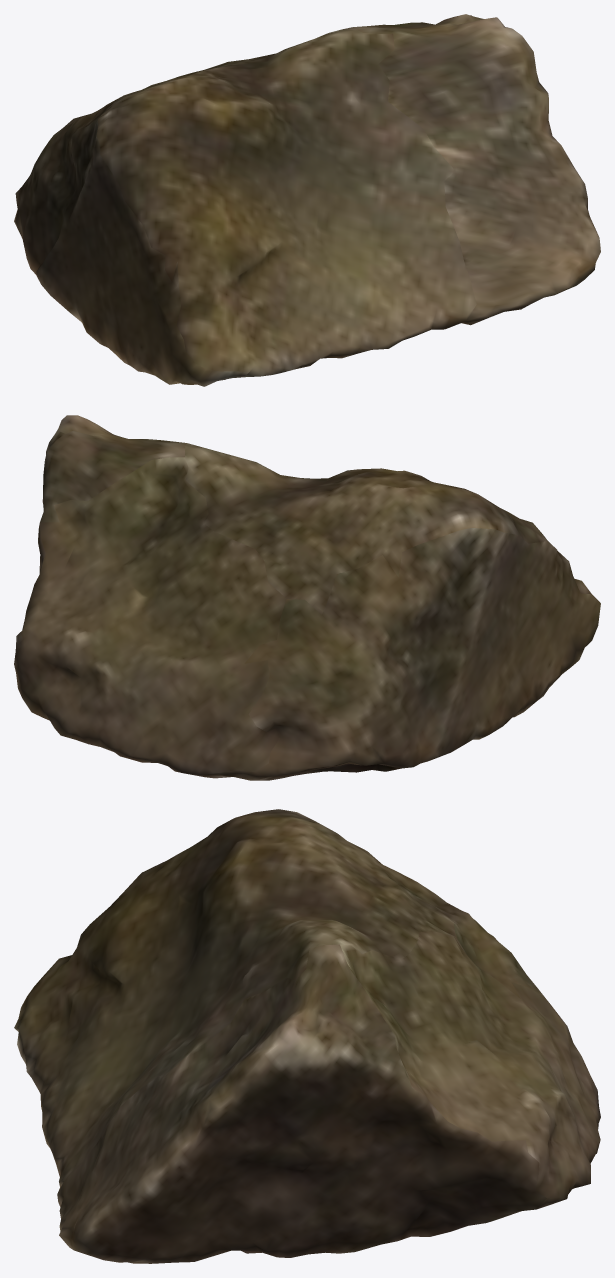
The model's file is rock_moss_set_01_f.gltf.
The picture shows the model from 3 angles, top to bottom: view 1: azimuth 30°, elevation 25°; view 2: azimuth 150°, elevation 25°; view 3: azimuth 270°, elevation 25°; orthographic projection. The views are drawn at different scales.
Parts seen in each view (by area): view 1: rock_moss_set_01_rock03; view 2: rock_moss_set_01_rock03; view 3: rock_moss_set_01_rock03.
Boxes of the visible parts, left/top/right/bottom form: rock_moss_set_01_rock03: left=14, top=14, right=600, bottom=386; rock_moss_set_01_rock03: left=14, top=415, right=600, bottom=780; rock_moss_set_01_rock03: left=14, top=809, right=600, bottom=1263.
Size of the model in its own units: 2.11 by 1.1 by 2.08.
Materials: 1 (1 with a texture image).
